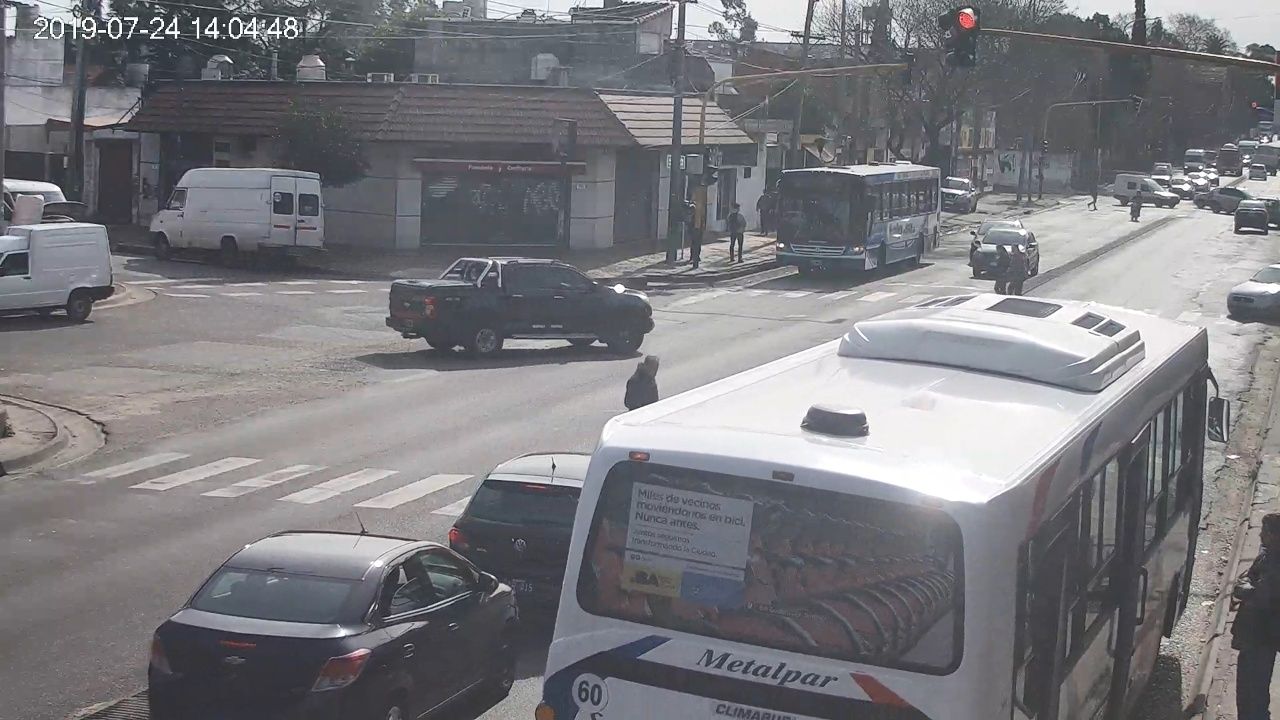bus: (534, 296, 1231, 720)
car: (149, 530, 521, 720)
front bus: (775, 163, 941, 274)
traffic light: (956, 7, 980, 65)
